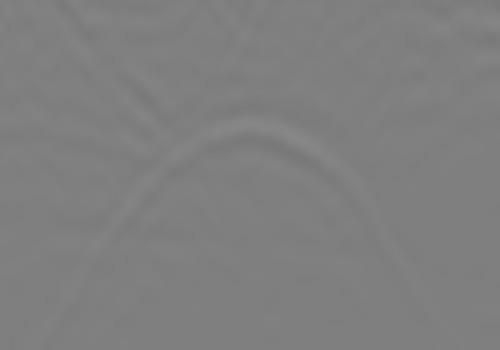hyperbola: (66, 117, 449, 339)
